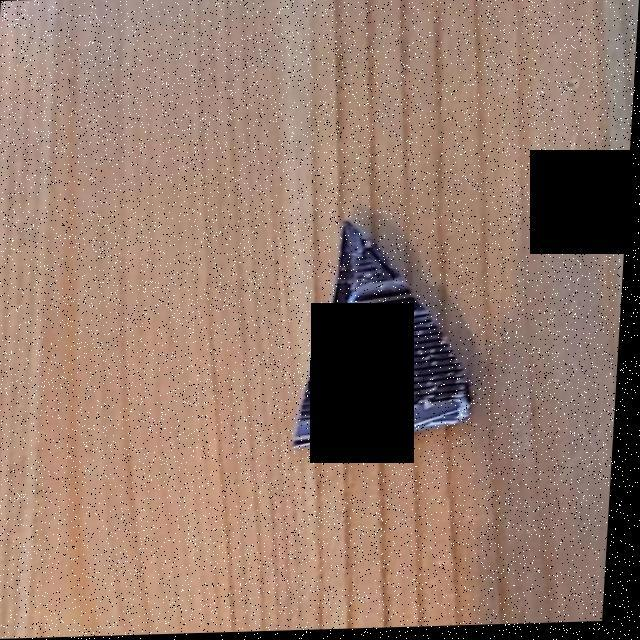chocolate: (295, 229, 475, 429)
